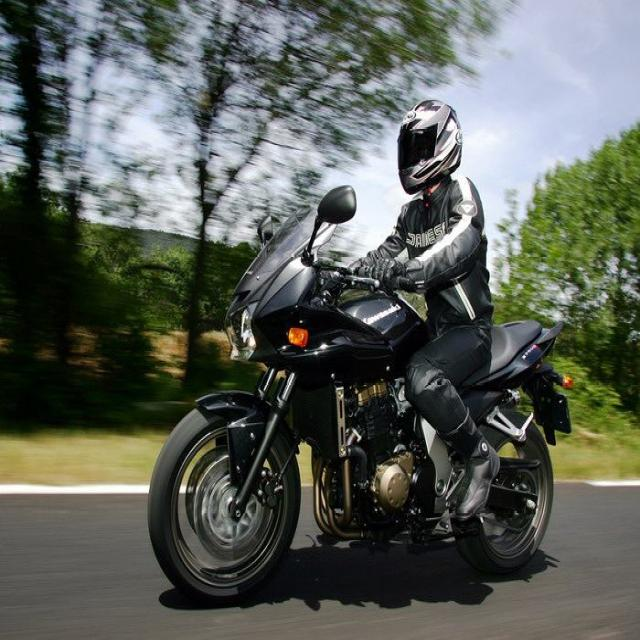helmet: (394, 96, 466, 198)
